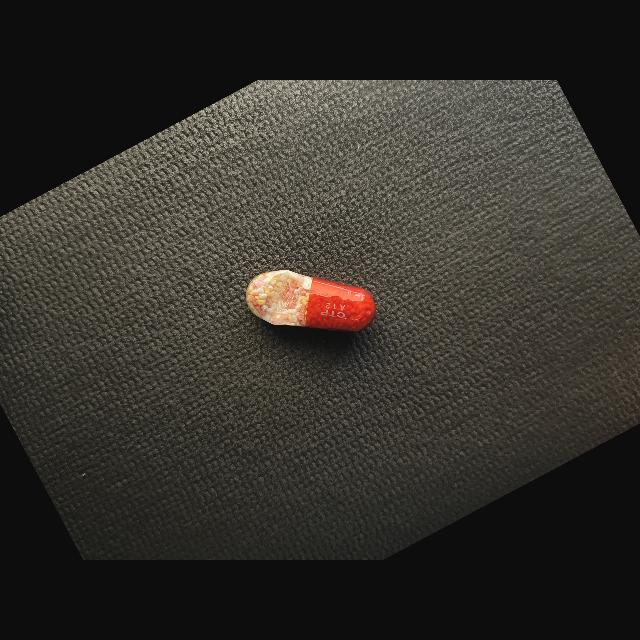Defective Capsule: (246, 270, 376, 331)
